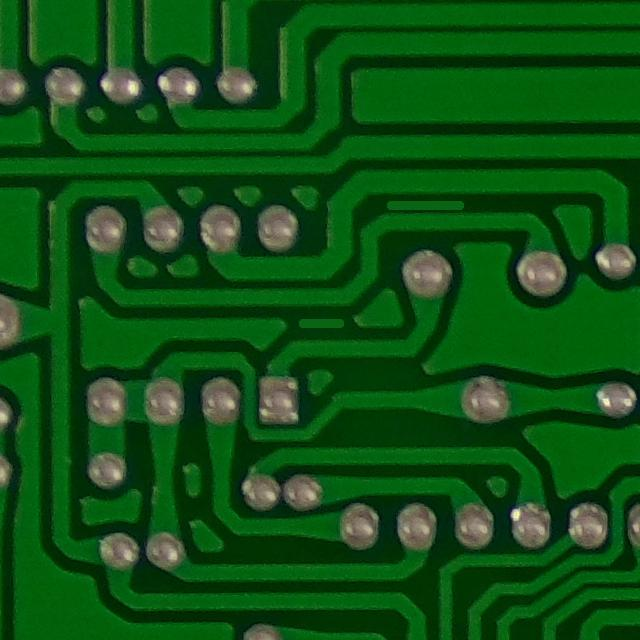spurious_copper: (290, 306, 351, 335)
